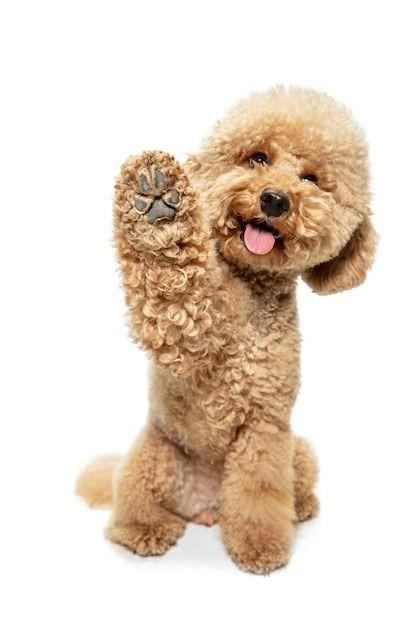adult_dog: (69, 85, 382, 580)
